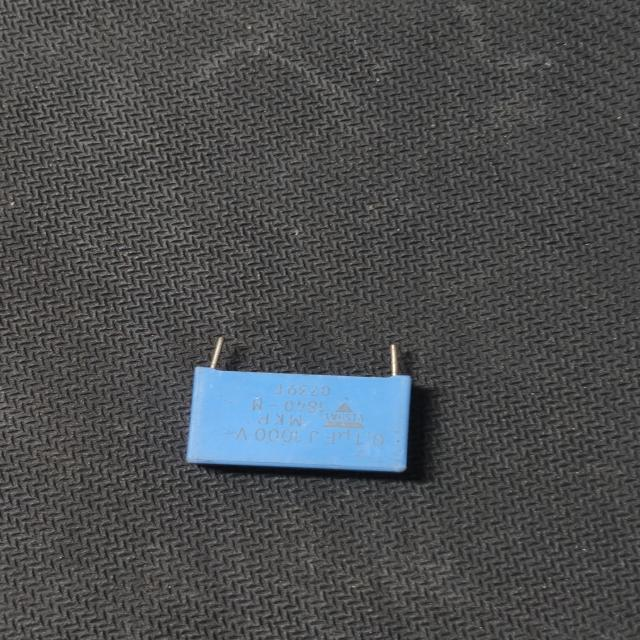capacitor: (177, 328, 443, 479)
